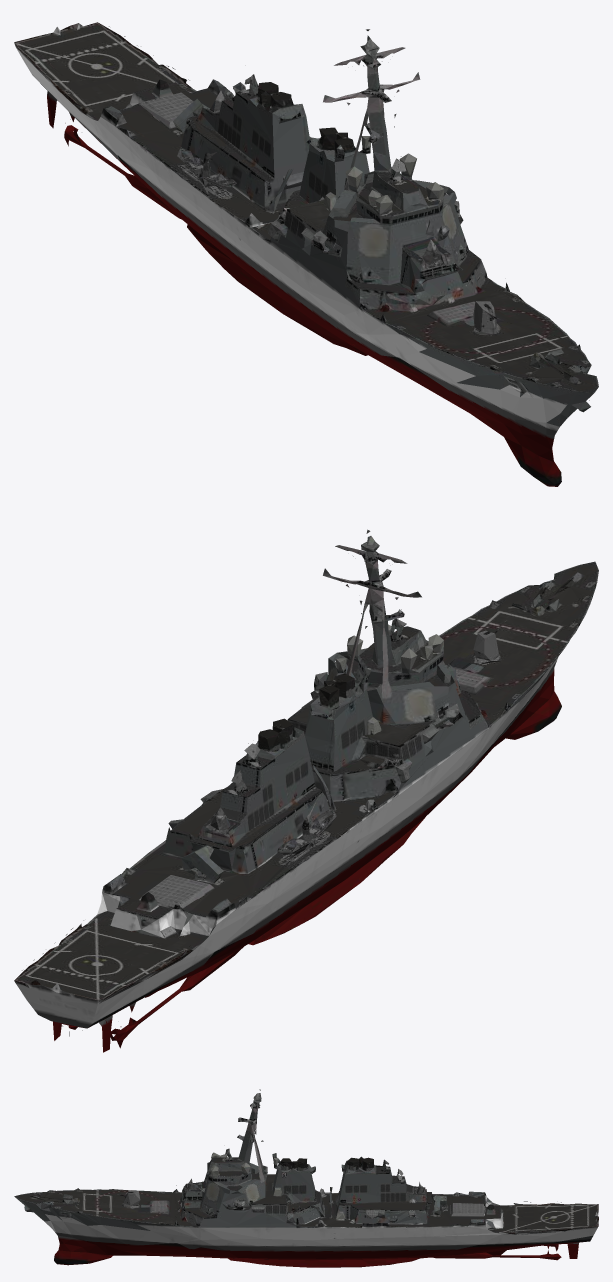
File: missile-cruiser.glb
3 views of the same model, one above another, from view 1: azimuth 30°, elevation 25°; view 2: azimuth 150°, elevation 25°; view 3: azimuth 270°, elevation 25° (orthographic). The views are drawn at different scales.
Parts seen in each view (by area): view 1: missile-cruiser; view 2: missile-cruiser; view 3: missile-cruiser.
Part boxes in pixels (x1,y1,x2,y2): missile-cruiser: (14, 22, 598, 486); missile-cruiser: (14, 529, 598, 1052); missile-cruiser: (14, 1089, 598, 1267).
Bounding box in the file's own units: 23.71 × 53.43 × 154.
Materials: 2 (2 with a texture image).
